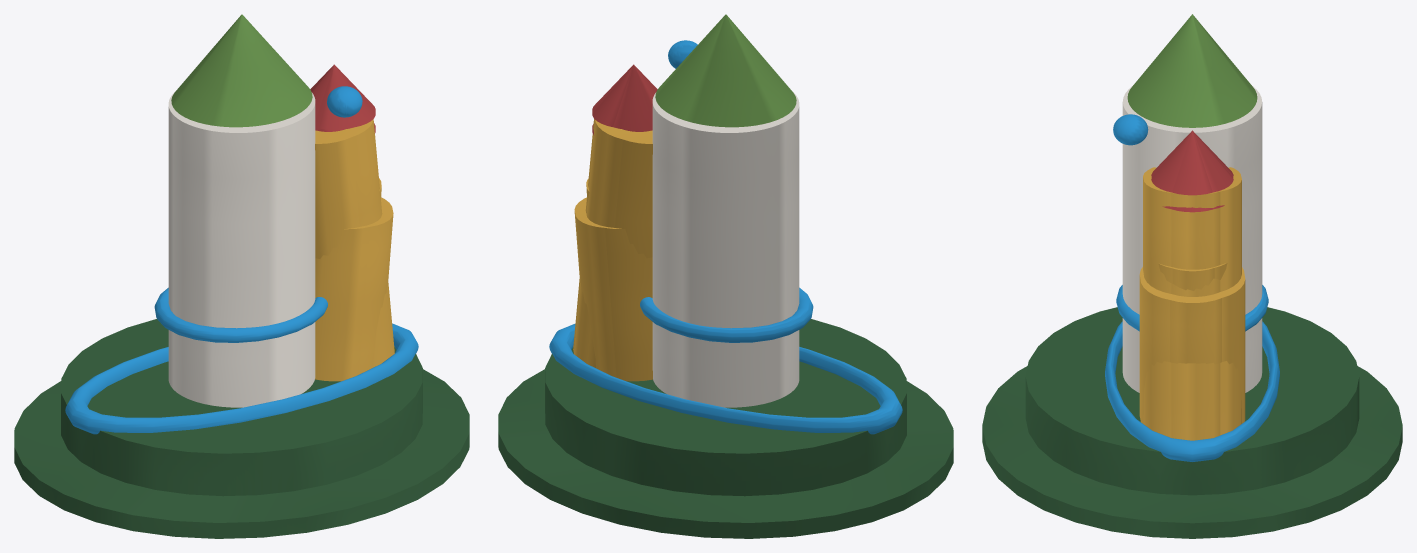
The model's file is 0547_岩石矿物图鉴_孔雀石.glb.
The picture shows the model from 3 angles, left to right: view 1: azimuth 30°, elevation 25°; view 2: azimuth 150°, elevation 25°; view 3: azimuth 270°, elevation 25°; orthographic projection.
Parts seen in each view (by area): view 1: card_0547; view 2: card_0547; view 3: card_0547.
Part boxes in pixels (x1,y1,x2,y2): card_0547: (14,14,469,538); card_0547: (498,14,953,538); card_0547: (982,14,1402,538).
Size of the model in its own units: 0.9792 by 1 by 0.8917.
